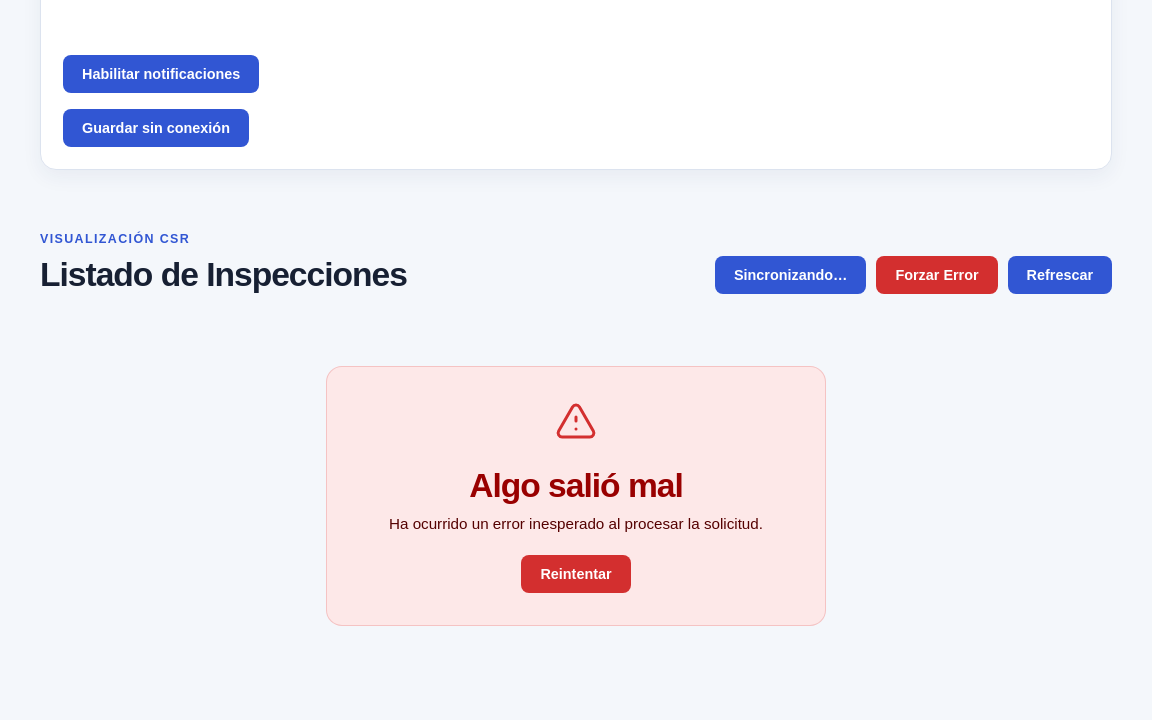
Test: Listado CSR de inspecciones (/inspecciones) › el reintento ('Actualizar datos') recupera la lista después de un error previo
(page scrolled)
Expected: the message that starts with "Algo salió mal" is shown, [326,366,826,626]
What coordinates should you click on to do the following:
click the button with aria-label "Reintentar cargar la página"
I would click on:
 (576, 574)
Its box is [521,555,631,593].
(page scrolled)
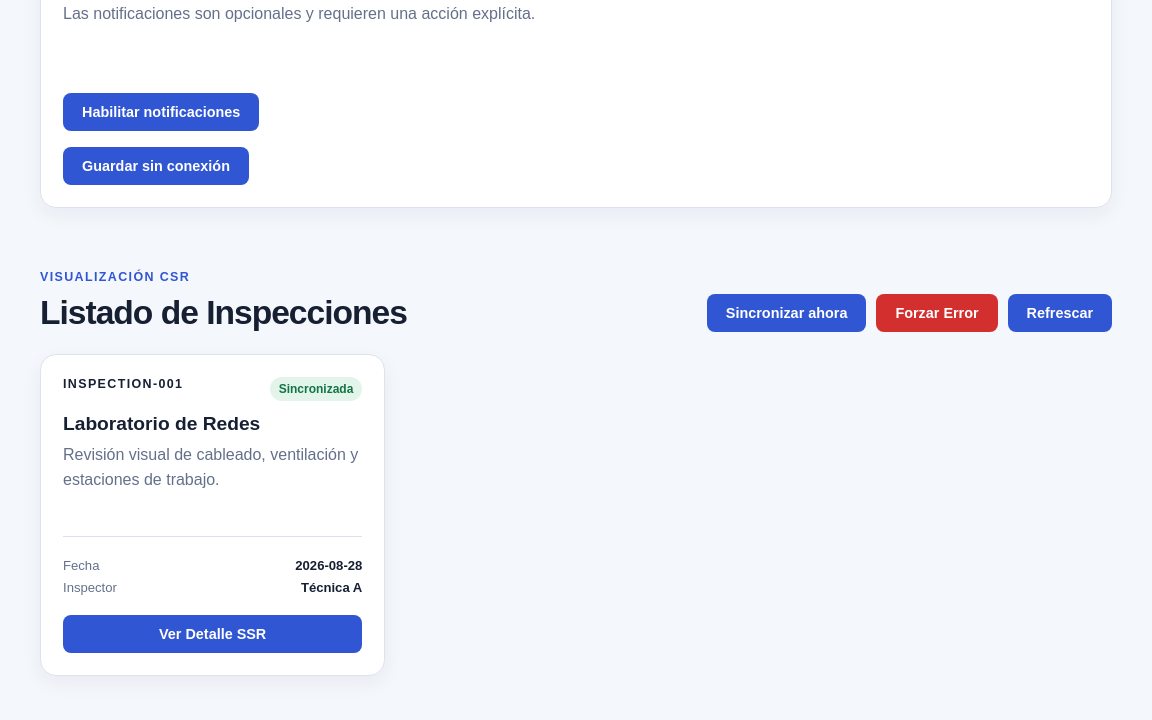
Expected: the heading "Laboratorio de Redes" is shown, [63,413,260,434]
